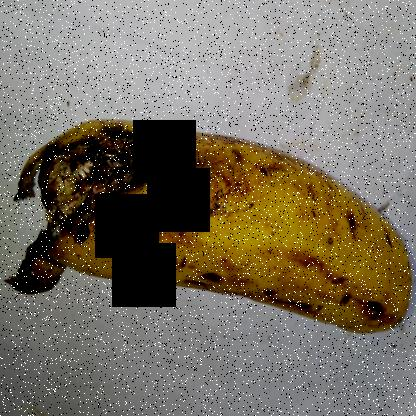ripe: (169, 100, 413, 353)
rotten: (20, 96, 188, 277)
